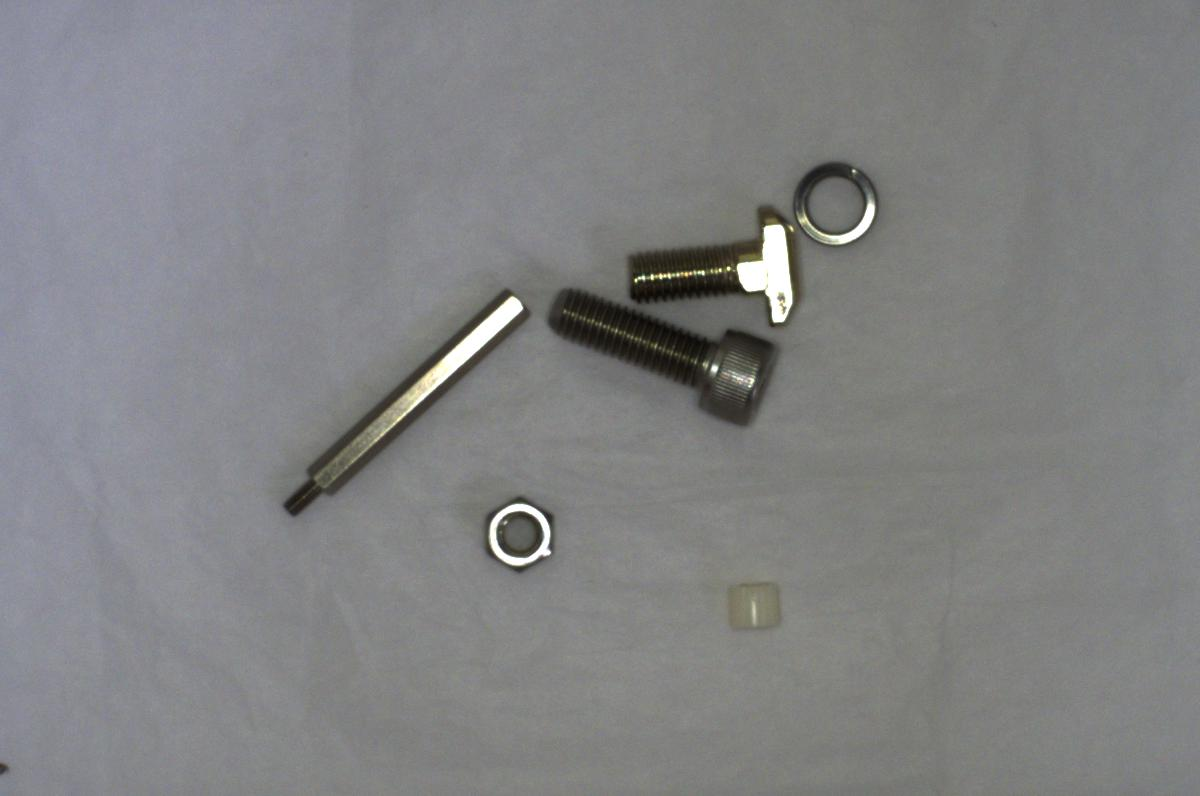Hexagon nut: (474, 488, 560, 581)
Hexagon screw: (535, 282, 782, 433)
Hexagonal steel column: (270, 286, 525, 523)
Plastic cushion pillar: (721, 569, 787, 635)
Spring washer: (786, 150, 886, 253)
T-shaped screw: (622, 208, 797, 328)
